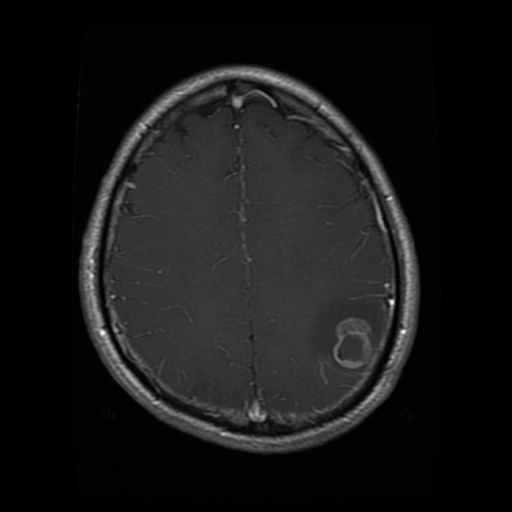glioma: (304, 290, 386, 381)
